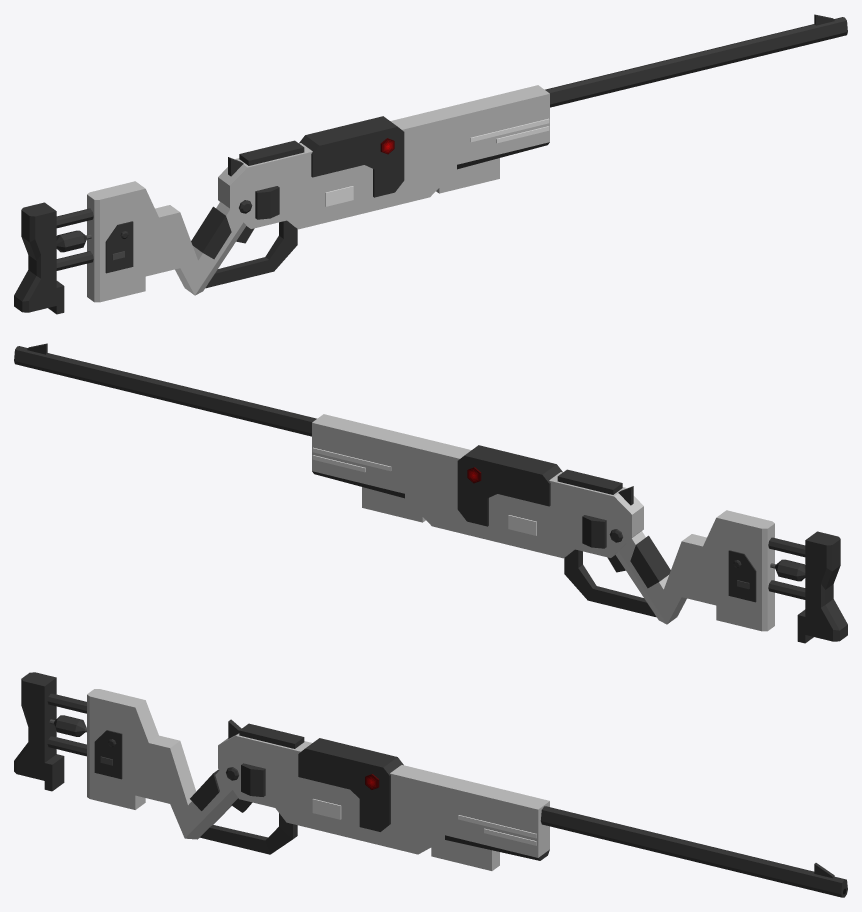
File: Rifle_Sniper_A_V4.FBX
The picture shows the model from 3 angles, top to bottom: view 1: azimuth 30°, elevation 25°; view 2: azimuth 150°, elevation 25°; view 3: azimuth 330°, elevation 25°; orthographic projection.
Visible parts, largest first — view 1: Rifle_Sniper_A_V4, Magazine; view 2: Rifle_Sniper_A_V4, Magazine; view 3: Rifle_Sniper_A_V4, Magazine.
Part boxes in pixels (box(x1,y1,x2,y2)): Rifle_Sniper_A_V4: box(14, 14, 847, 314); Magazine: box(436, 158, 499, 193); Rifle_Sniper_A_V4: box(14, 343, 847, 643); Magazine: box(362, 487, 425, 522); Rifle_Sniper_A_V4: box(14, 672, 847, 897); Magazine: box(431, 840, 499, 870).
Bounding box in the file's own units: 582 × 83.55 × 24.75.
